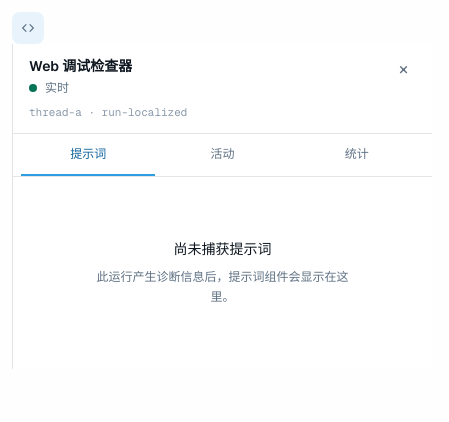
it: product activity summaries resolve their translation key in the active locale
Click the tab with test id "inspector-tab-activity". click: (222, 154)
box: [155, 134, 290, 176]
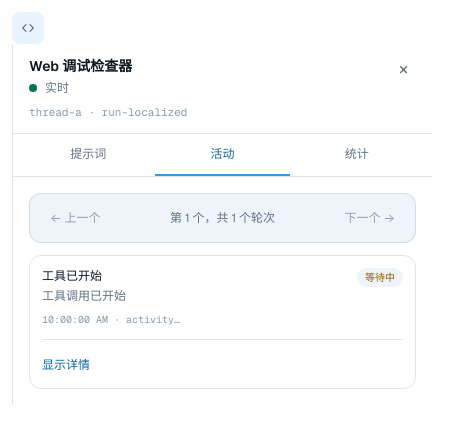
Now the element with test id "inspector-activity-content" shows "工具调用已开始", box [42, 288, 126, 304]
